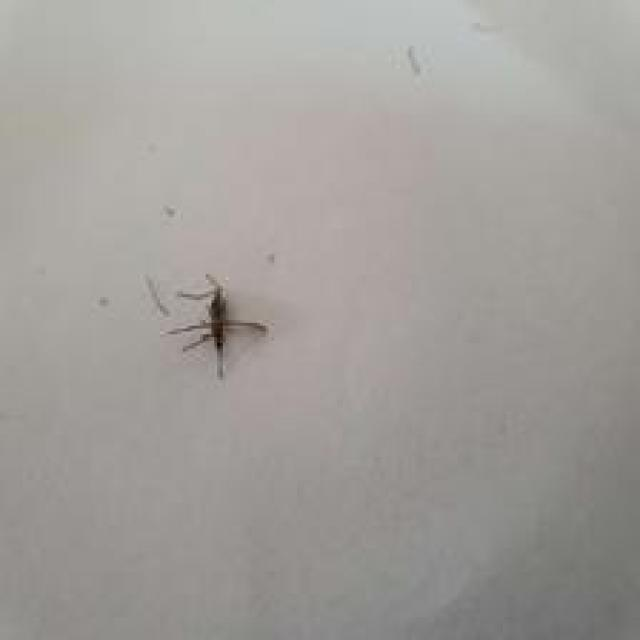Culex: (163, 271, 268, 380)
